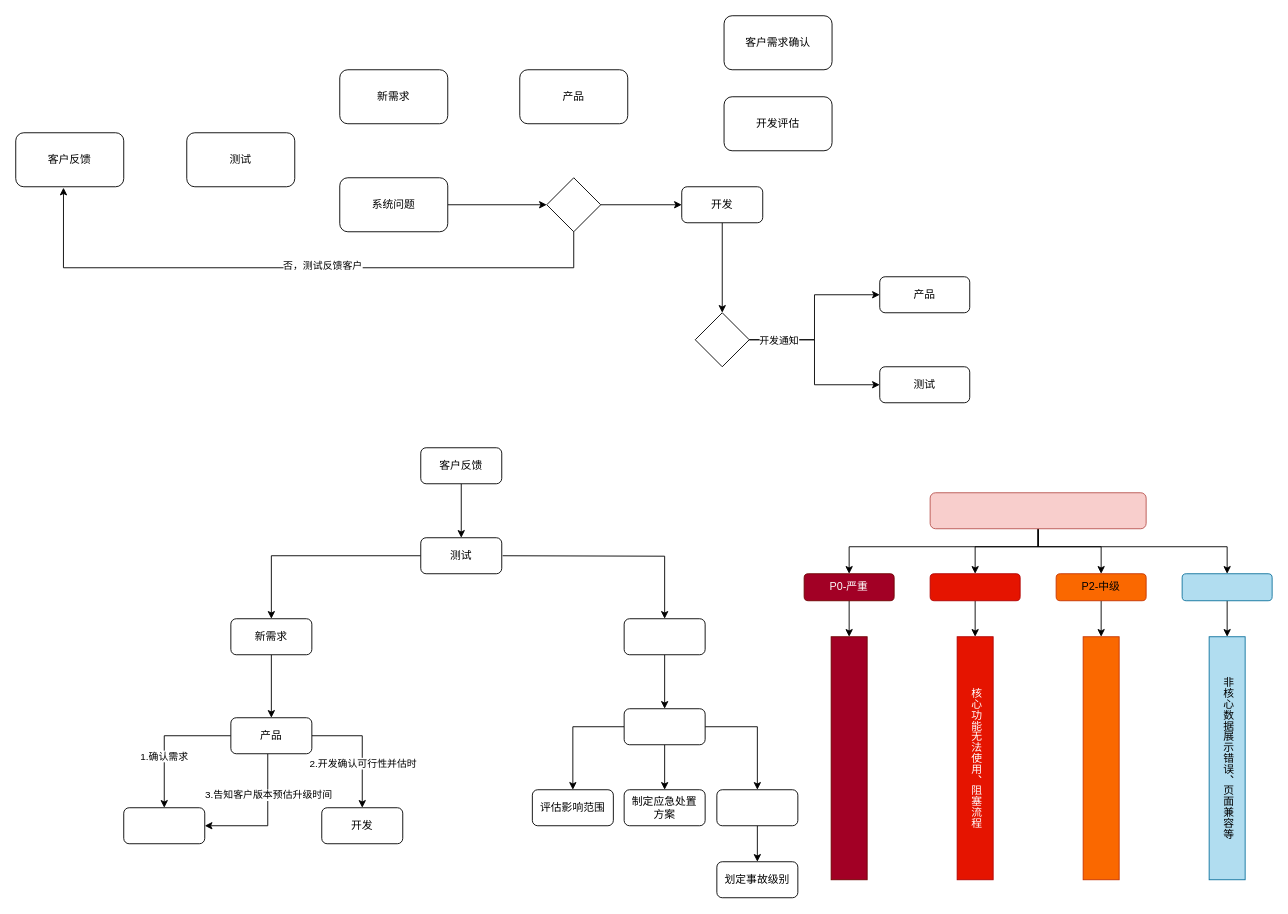
Image size: 1288x914. Some labels were removed from this diagram. Each missing label, with the centre of its shape:
"P1-高级" goes at point 974,587.
"P3-轻微" goes at point 1226,587.
"上报" goes at point 757,807.
"事故级别划分" goes at point 1037,510.
"客户" goes at point 164,825.
"是否为bug" goes at point 573,204.
"是否需要升级" goes at point 721,339.
"生产bug" goes at point 664,636.
"系统崩溃" goes at point 848,758.
"部分功能报错，如查询、导出、导入等" goes at point 1100,758.
"项目经理" goes at point 664,726.
